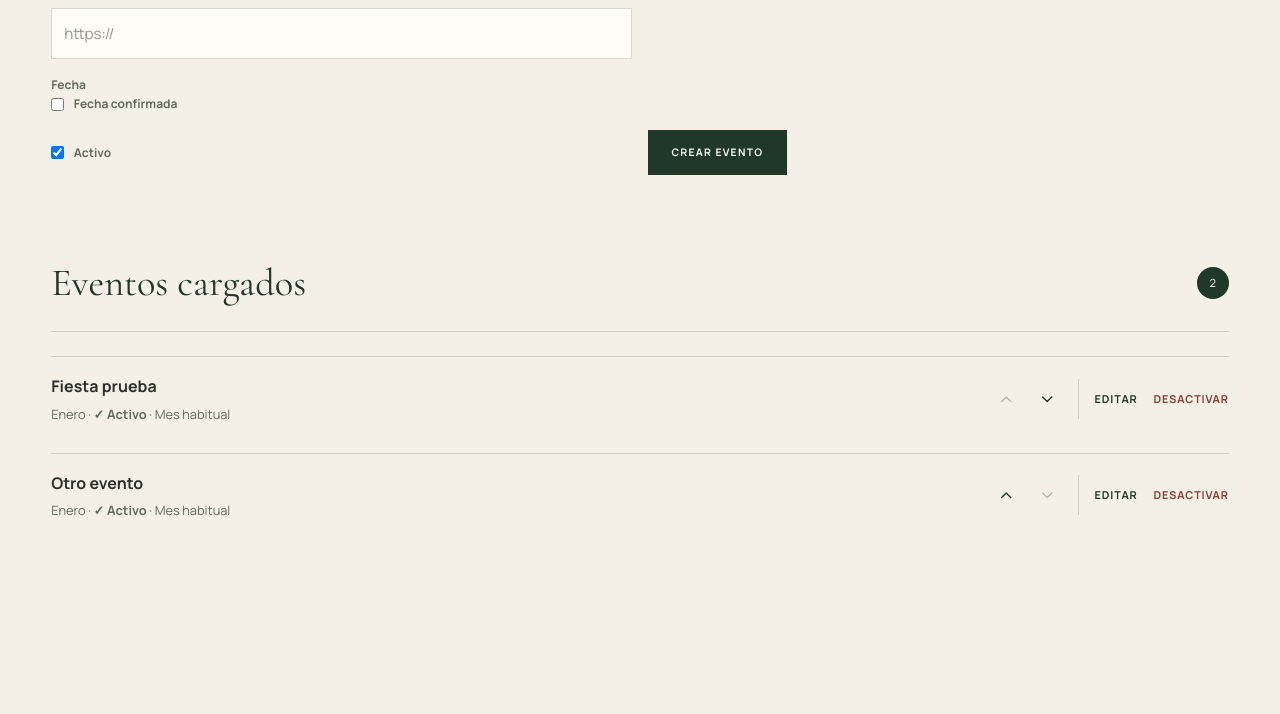
it: EventsAdmin › reorders locally, marks the order as dirty, and does not write immediately
The width and height of the screenshot is (1280, 714).
(page scrolled)
Click the button named "Bajar Fiesta prueba": {"x": 1047, "y": 399} 1027,379 -> 1067,419
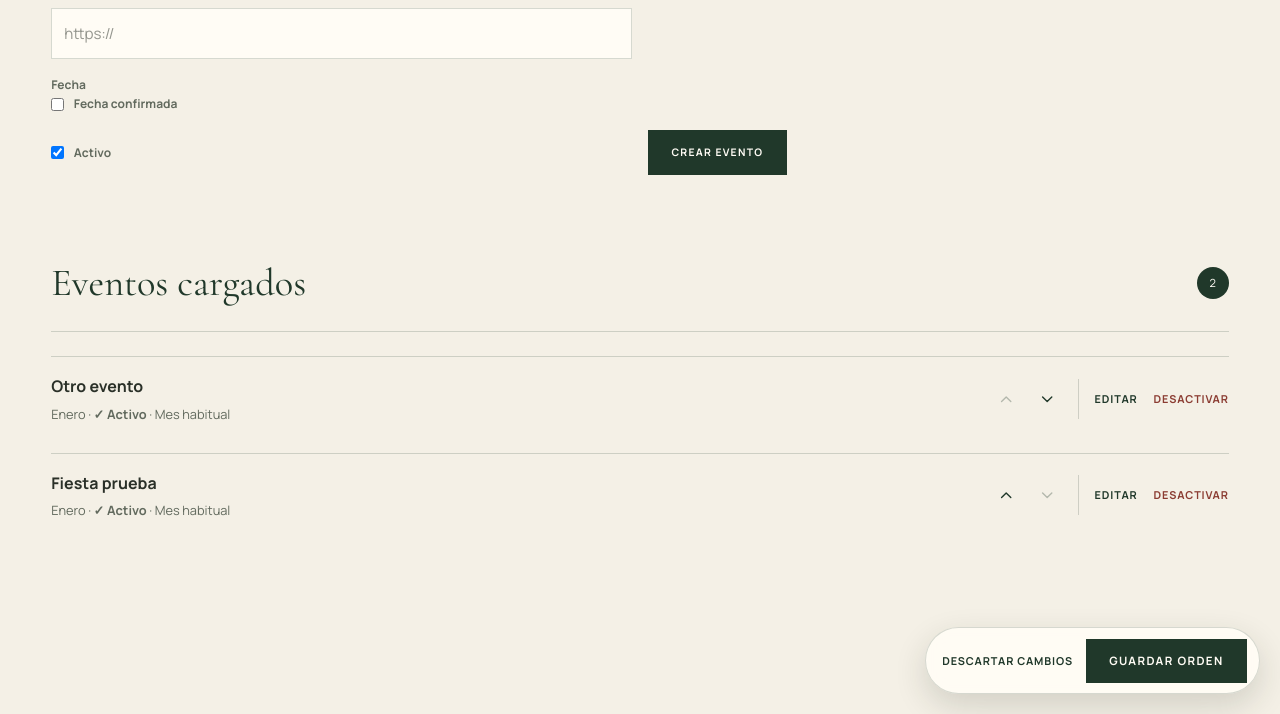
Check: the button "Guardar orden" is shown, box 1086,639 -> 1247,683
